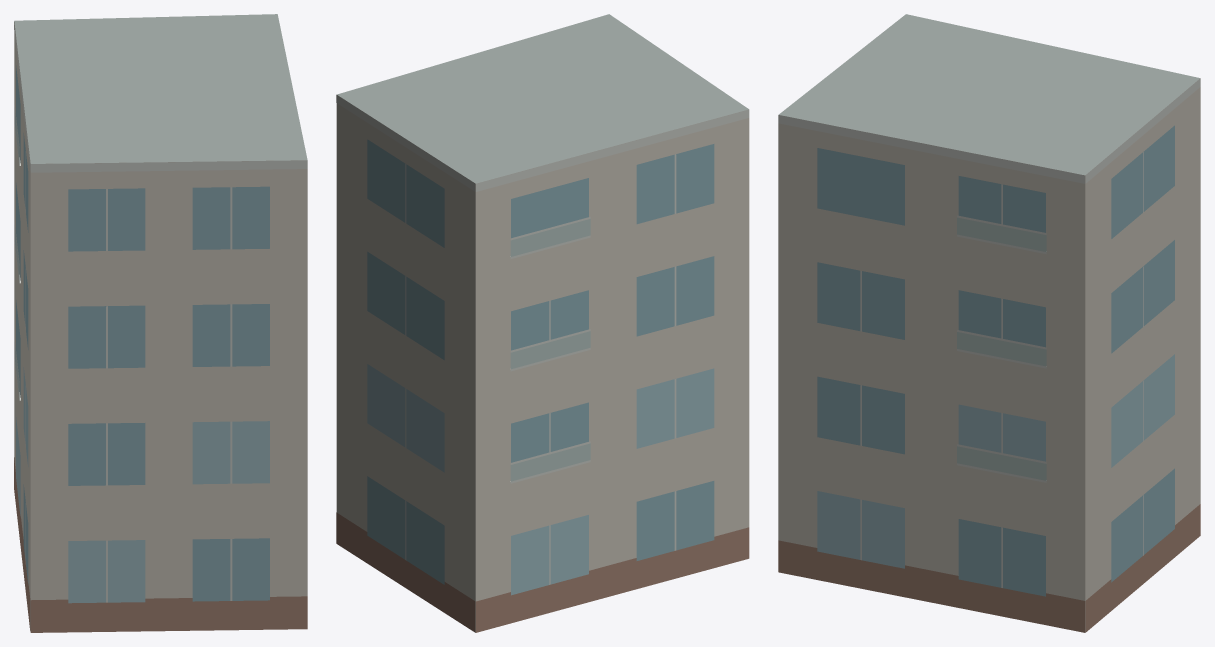
The model's file is survey-upis-33001464.glb.
3 views of the same model, side by side, from view 1: azimuth 30°, elevation 25°; view 2: azimuth 150°, elevation 25°; view 3: azimuth 270°, elevation 25° (orthographic). The views are drawn at different scales.
Parts seen in each view (by area): view 1: survey-upis-33001464.tmp; view 2: survey-upis-33001464.tmp; view 3: survey-upis-33001464.tmp.
Boxes of the visible parts, x1,y1,x2,y2 form: survey-upis-33001464.tmp: (14,14,307,632); survey-upis-33001464.tmp: (336,14,749,632); survey-upis-33001464.tmp: (778,14,1200,632).
Size of the model in its own units: 9.84 by 13 by 10.88.
